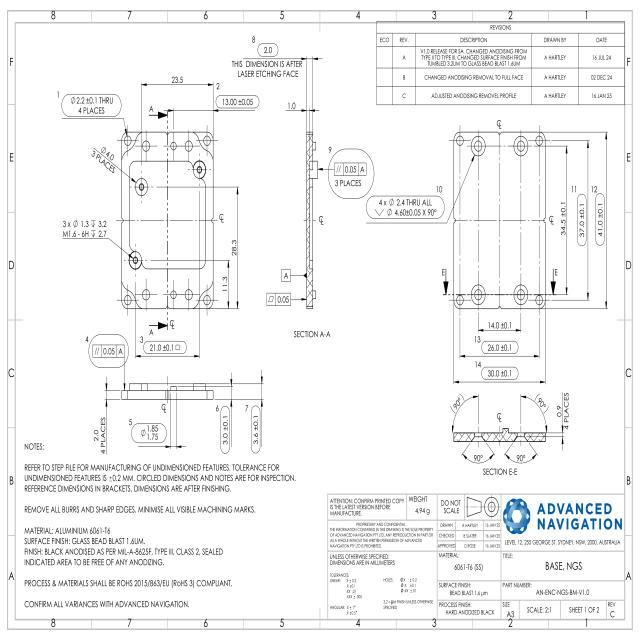dimension: (376, 197, 439, 218), (88, 142, 120, 175), (68, 96, 115, 116), (62, 218, 108, 238), (556, 391, 570, 431), (93, 416, 106, 456), (533, 390, 551, 415), (448, 392, 466, 416), (139, 423, 160, 441), (148, 342, 181, 353), (221, 96, 254, 106), (596, 202, 604, 239), (578, 202, 585, 239), (222, 414, 230, 446), (252, 414, 260, 446), (559, 201, 566, 237), (488, 320, 512, 330), (487, 343, 512, 352), (487, 369, 512, 378), (230, 237, 238, 257), (221, 274, 228, 294), (170, 74, 184, 84), (515, 452, 526, 462), (473, 452, 484, 462), (286, 100, 297, 110), (262, 45, 274, 54)
